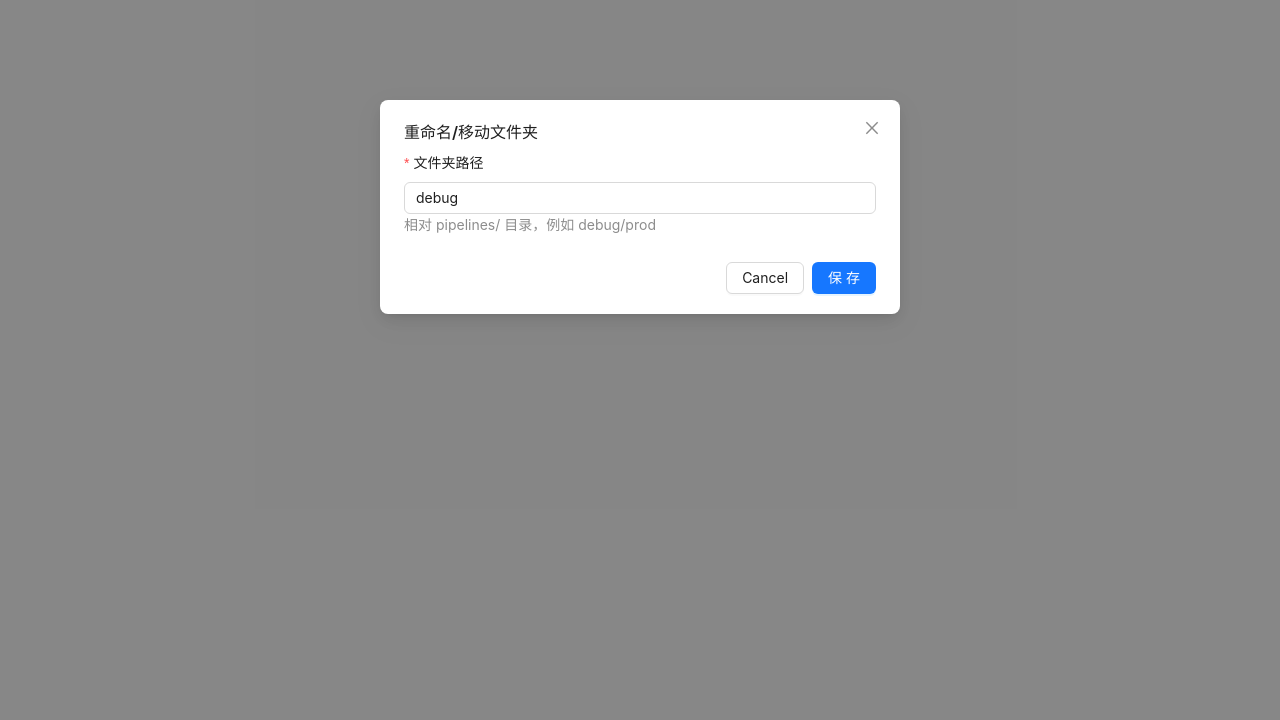
<RenameModal /> v3 › 包含 .. 的路径被校验拦截
Replace the text in the field showing "debug" with "../escape" at [640, 198], box [404, 182, 876, 214]
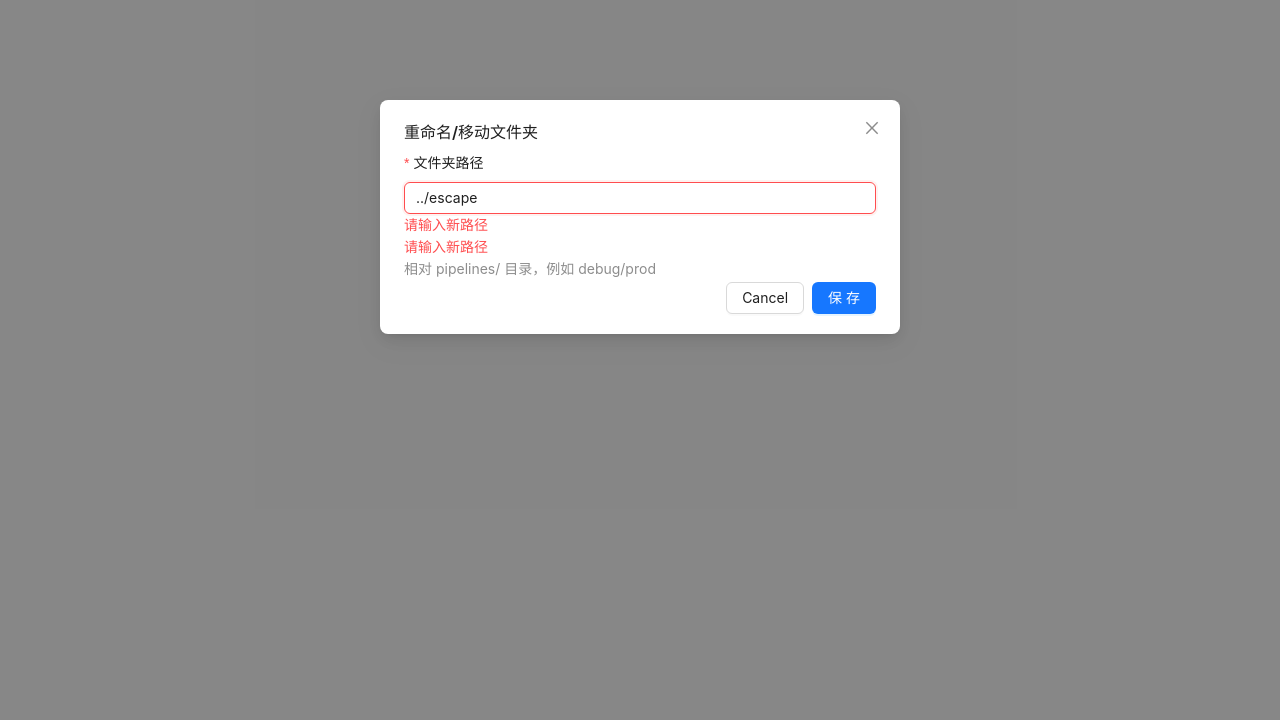
Click the button "保 存" at [844, 298], box [812, 282, 876, 314]
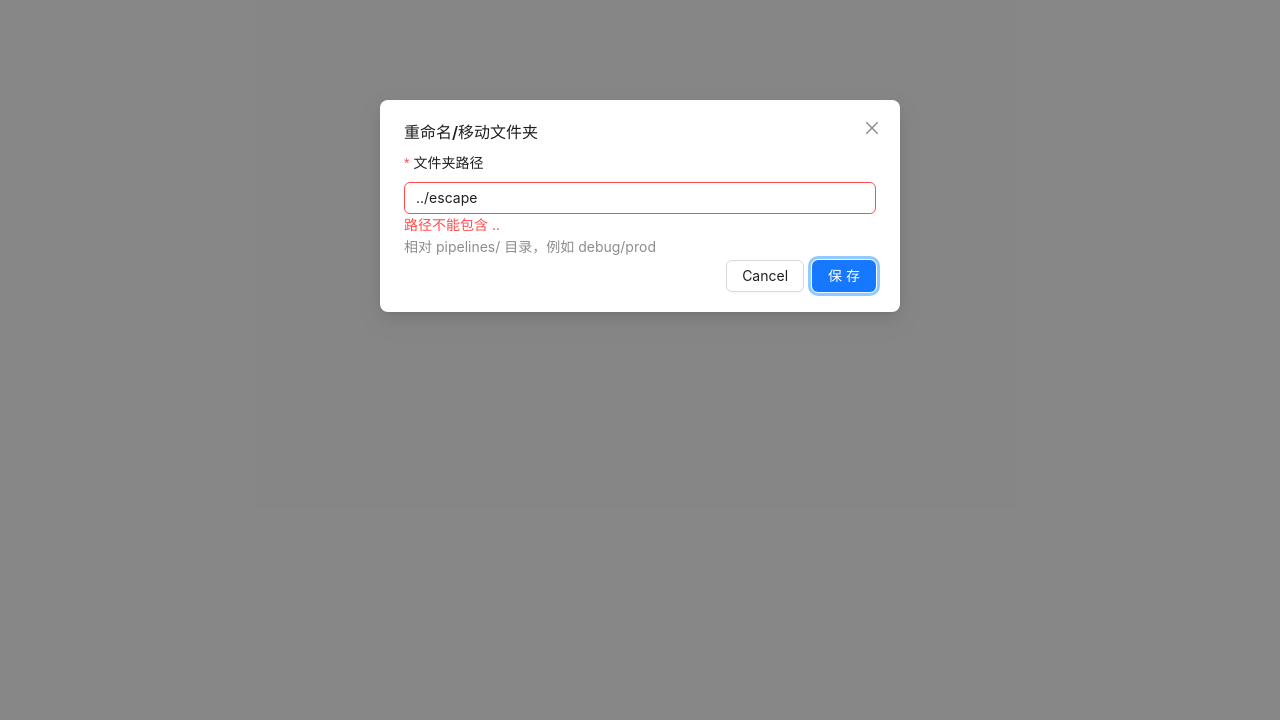
Result: the text "路径不能包含 .." is shown at [404, 216, 500, 233]
